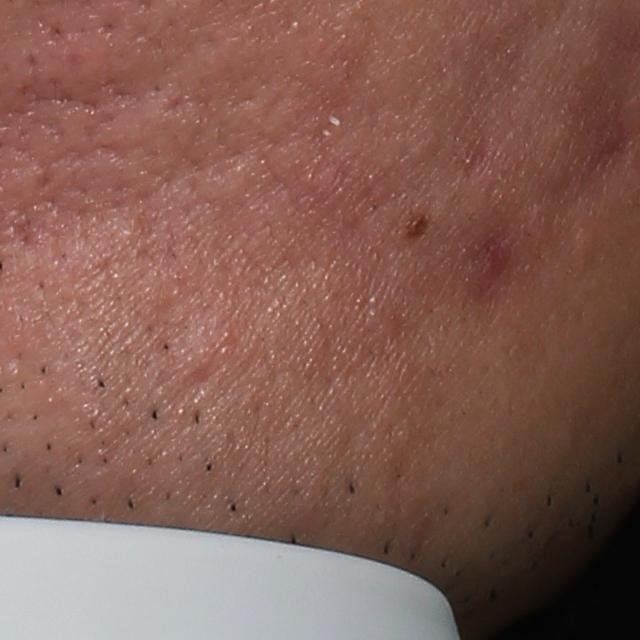nevus: (399, 210, 431, 245)
